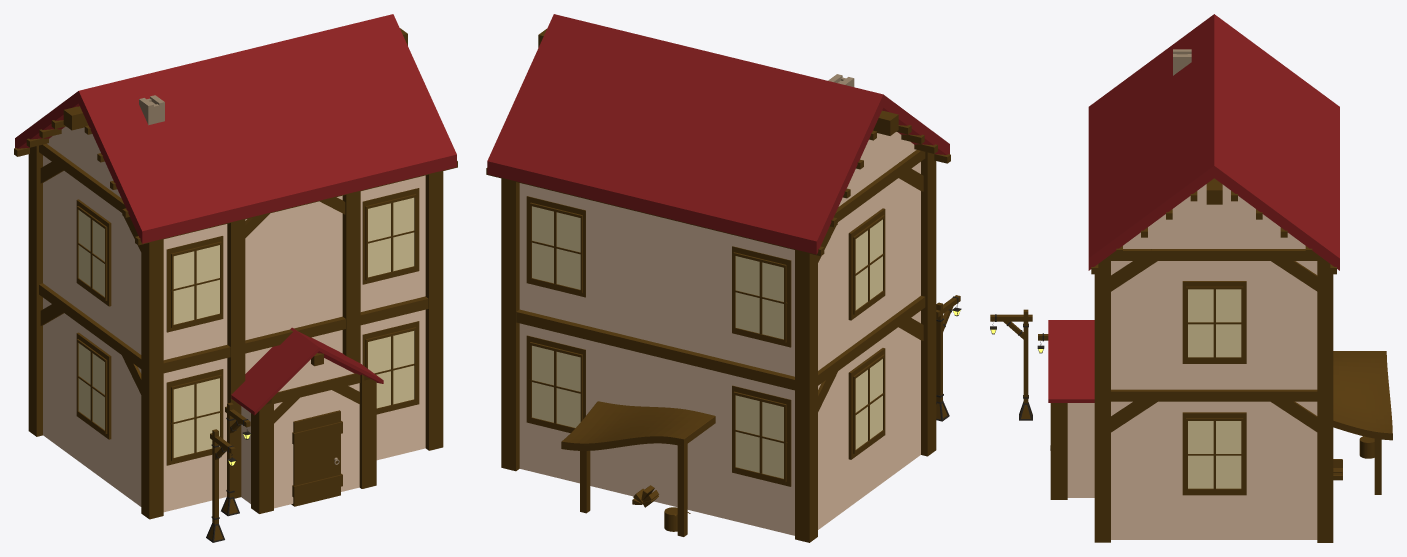
File: T2HouseV1.5.fbx
3 views of the same model, side by side, from view 1: azimuth 30°, elevation 25°; view 2: azimuth 150°, elevation 25°; view 3: azimuth 270°, elevation 25° (orthographic). The views are drawn at different scales.
Visible parts, largest first — view 1: Cube, Cube.002, Cube.022, Cube.007, Cube.018, Cube.003, Cube.004, Cube.010, Cube.006, Cube.036, Cube.041, Cube.021 (+15 smaller); view 2: Cube, Cube.022, Cube.018, Cube.006, Cube.005, Cube.026, Cube.003, Cube.036, Cube.021, Cube.009, Cube.030, Cube.017 (+10 smaller); view 3: Cube, Cube.002, Cube.026, Cube.005, Cube.004, Cube.030, Cube.009, Cube.035, Cube.045, Cube.010, Cube.008, Cube.029 (+4 smaller).
Boxes of the visible parts, x1,y1,x2,y2 form: Cube: (15, 14, 456, 512); Cube.002: (231, 327, 383, 508); Cube.022: (171, 194, 416, 327); Cube.007: (227, 191, 360, 498); Cube.018: (171, 327, 416, 461); Cube.003: (141, 239, 163, 519); Cube.004: (425, 171, 443, 450); Cube.010: (251, 374, 376, 513); Cube.006: (28, 145, 42, 436); Cube.036: (163, 296, 428, 373); Cube.041: (291, 410, 340, 506); Cube.021: (166, 188, 419, 332); Cube: (487, 14, 949, 535); Cube.022: (529, 202, 786, 342); Cube.018: (529, 342, 786, 482); Cube.006: (795, 250, 817, 542); Cube.005: (501, 178, 519, 471); Cube.026: (561, 401, 715, 450); Cube.003: (921, 152, 936, 456); Cube.036: (516, 309, 794, 390); Cube.021: (526, 196, 791, 347); Cube.009: (853, 354, 884, 453); Cube.030: (853, 215, 884, 314); Cube.017: (526, 335, 791, 486); Cube: (1088, 14, 1339, 539); Cube.002: (1048, 320, 1094, 497); Cube.026: (1333, 351, 1392, 440); Cube.005: (1317, 254, 1333, 542); Cube.004: (1094, 255, 1110, 542); Cube.030: (1186, 286, 1243, 359); Cube.009: (1186, 418, 1243, 491); Cube.035: (1111, 389, 1317, 401); Cube.045: (1111, 249, 1317, 260); Cube.010: (1050, 403, 1067, 499); Cube.008: (1182, 412, 1246, 495); Cube.029: (1182, 281, 1246, 363).
Bounding box in the file's own units: 818 × 904 × 859.
